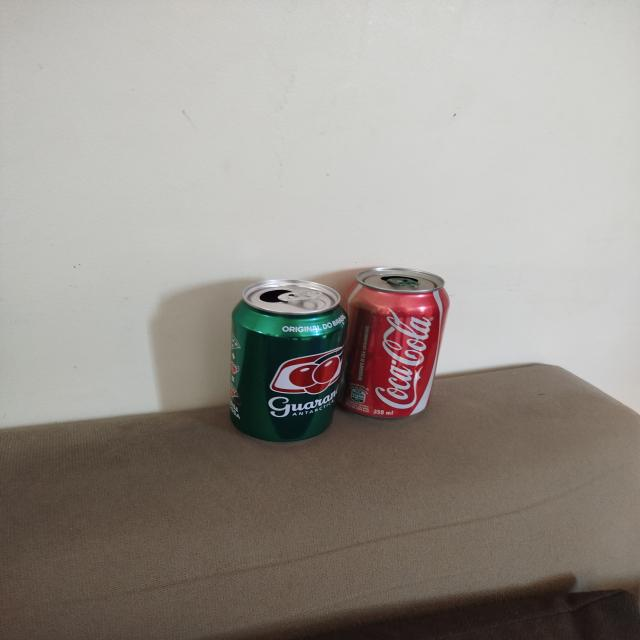Coca Cola: (340, 267, 450, 419)
Guarana: (228, 281, 352, 443)
